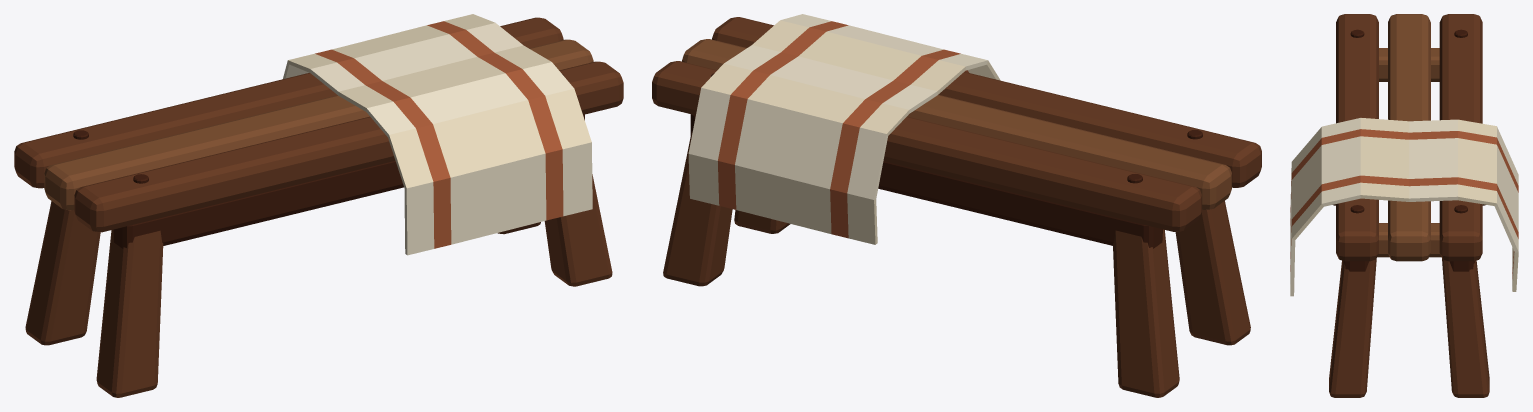
The model's file is AutumnBlanketBench.glb.
The picture shows the model from 3 angles, left to right: view 1: azimuth 30°, elevation 25°; view 2: azimuth 150°, elevation 25°; view 3: azimuth 270°, elevation 25°; orthographic projection. The views are drawn at different scales.
Visible parts, largest first — view 1: AutumnBlanketBench_Timber, AutumnBlanketBench_Textile; view 2: AutumnBlanketBench_Timber, AutumnBlanketBench_Textile; view 3: AutumnBlanketBench_Timber, AutumnBlanketBench_Textile.
Boxes of the visible parts, x1,y1,x2,y2 form: AutumnBlanketBench_Timber: [14, 17, 623, 397]; AutumnBlanketBench_Textile: [283, 14, 592, 255]; AutumnBlanketBench_Timber: [652, 17, 1261, 397]; AutumnBlanketBench_Textile: [688, 14, 1000, 244]; AutumnBlanketBench_Timber: [1329, 14, 1489, 397]; AutumnBlanketBench_Textile: [1290, 118, 1518, 296].
Bounding box in the file's own units: 1.09 × 0.422 × 0.47.
